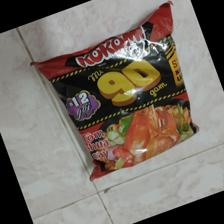Kokomi: (29, 1, 200, 183)
